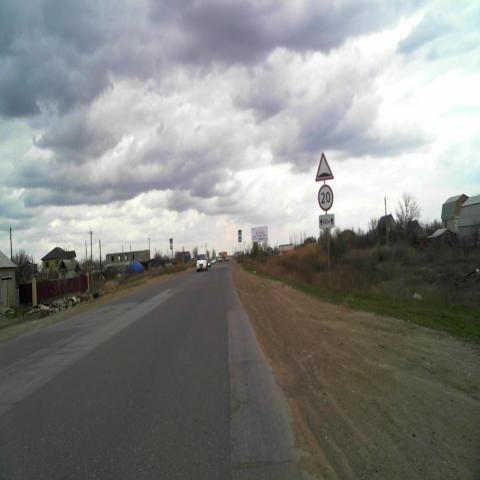8_2_1: (319, 214, 335, 228)
